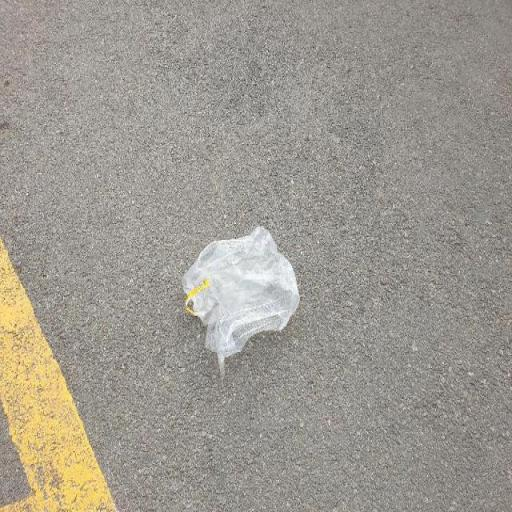plastic-bag: (180, 228, 298, 364)
